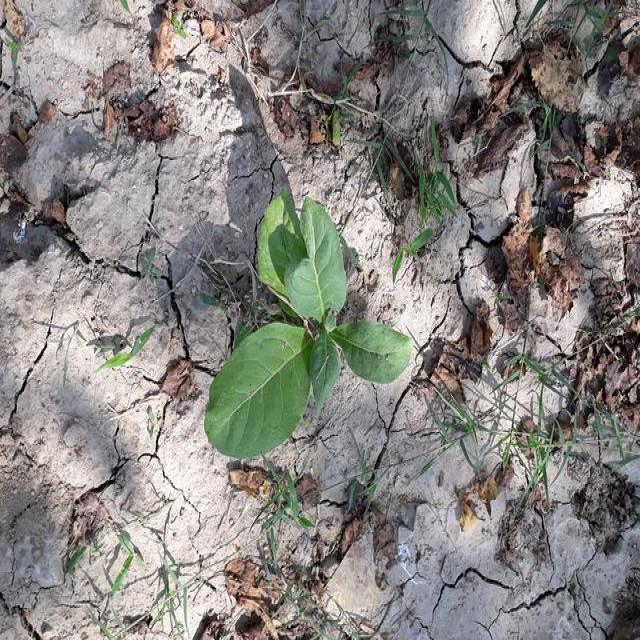crop: (200, 198, 410, 480)
